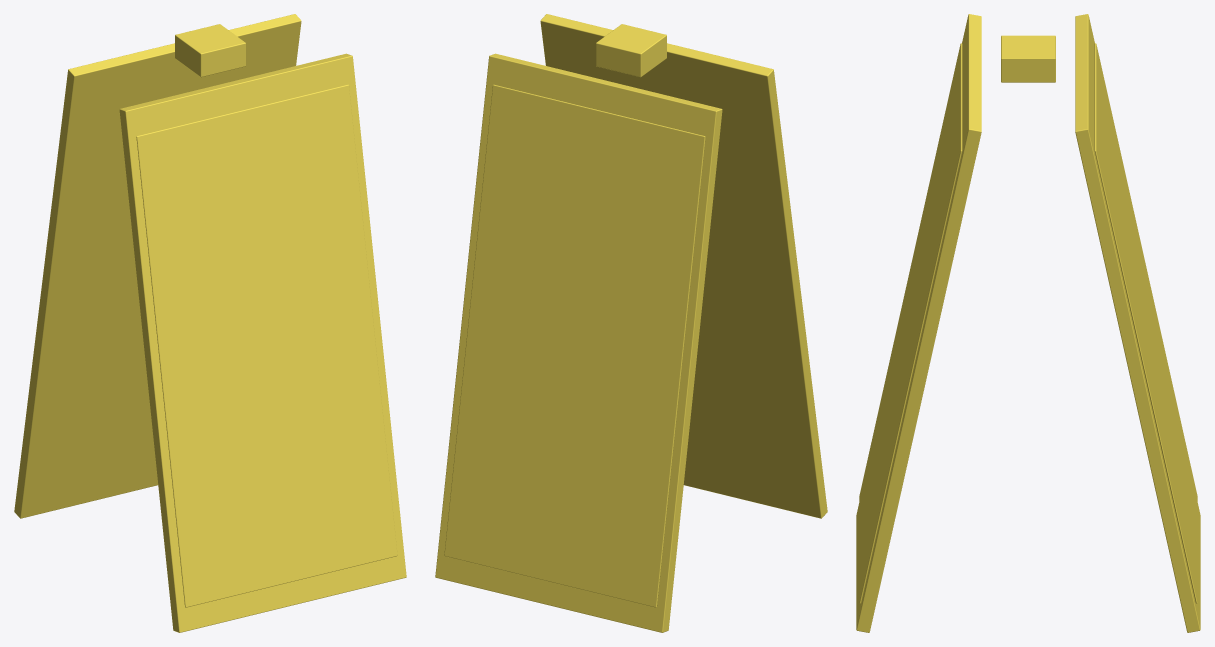
Rendered from SM_WetFloorSign.fbx.
3 renders of one model, left to right at view 1: azimuth 30°, elevation 25°; view 2: azimuth 150°, elevation 25°; view 3: azimuth 270°, elevation 25°, orthographic. The views are drawn at different scales.
Visible parts, largest first — view 1: SM_WetFloorSign; view 2: SM_WetFloorSign; view 3: SM_WetFloorSign.
Boxes of the visible parts, x1,y1,x2,y2 form: SM_WetFloorSign: (14, 14, 406, 632); SM_WetFloorSign: (435, 14, 827, 632); SM_WetFloorSign: (856, 14, 1200, 632).
Bounding box in the file's own units: 0.3 × 0.6401 × 0.3775.
